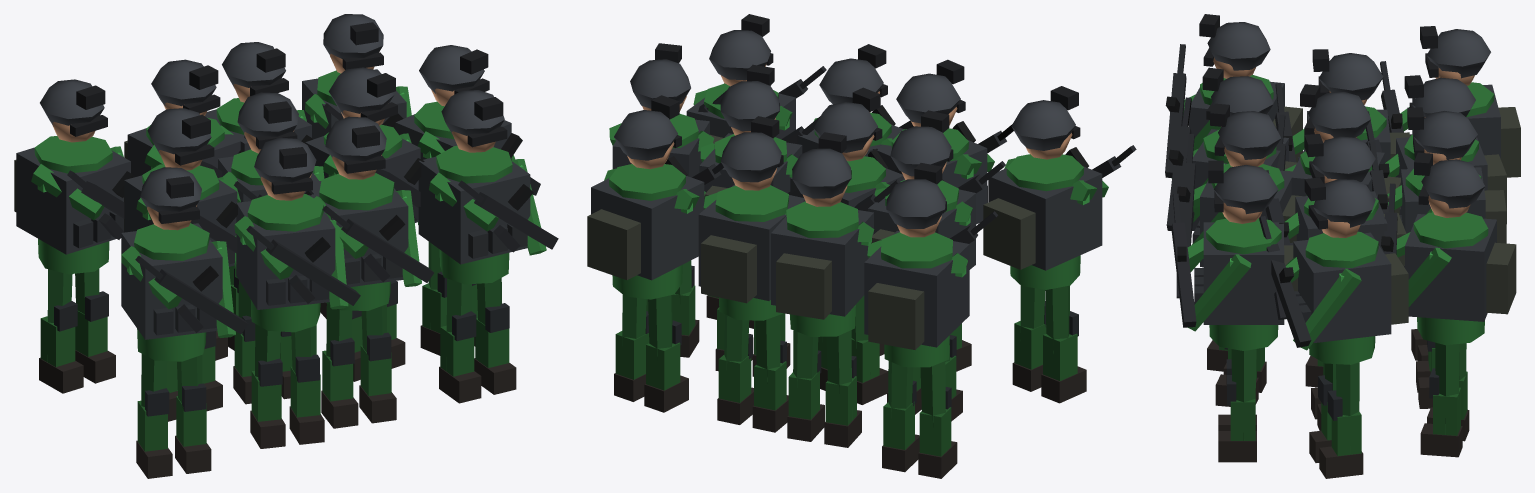
Rendered from squad_dl7_green.glb.
3 renders of one model, left to right at view 1: azimuth 30°, elevation 25°; view 2: azimuth 150°, elevation 25°; view 3: azimuth 270°, elevation 25°, orthographic. The views are drawn at different scales.
Parts seen in each view (by area): view 1: squad_dl7_green; view 2: squad_dl7_green; view 3: squad_dl7_green.
Part boxes in pixels (x1,y1,x2,y2): squad_dl7_green: [14, 14, 558, 478]; squad_dl7_green: [587, 14, 1136, 478]; squad_dl7_green: [1165, 14, 1520, 478].
Bounding box in the file's own units: 0.634 × 0.3838 × 0.437.
1 material, 1 textured.
